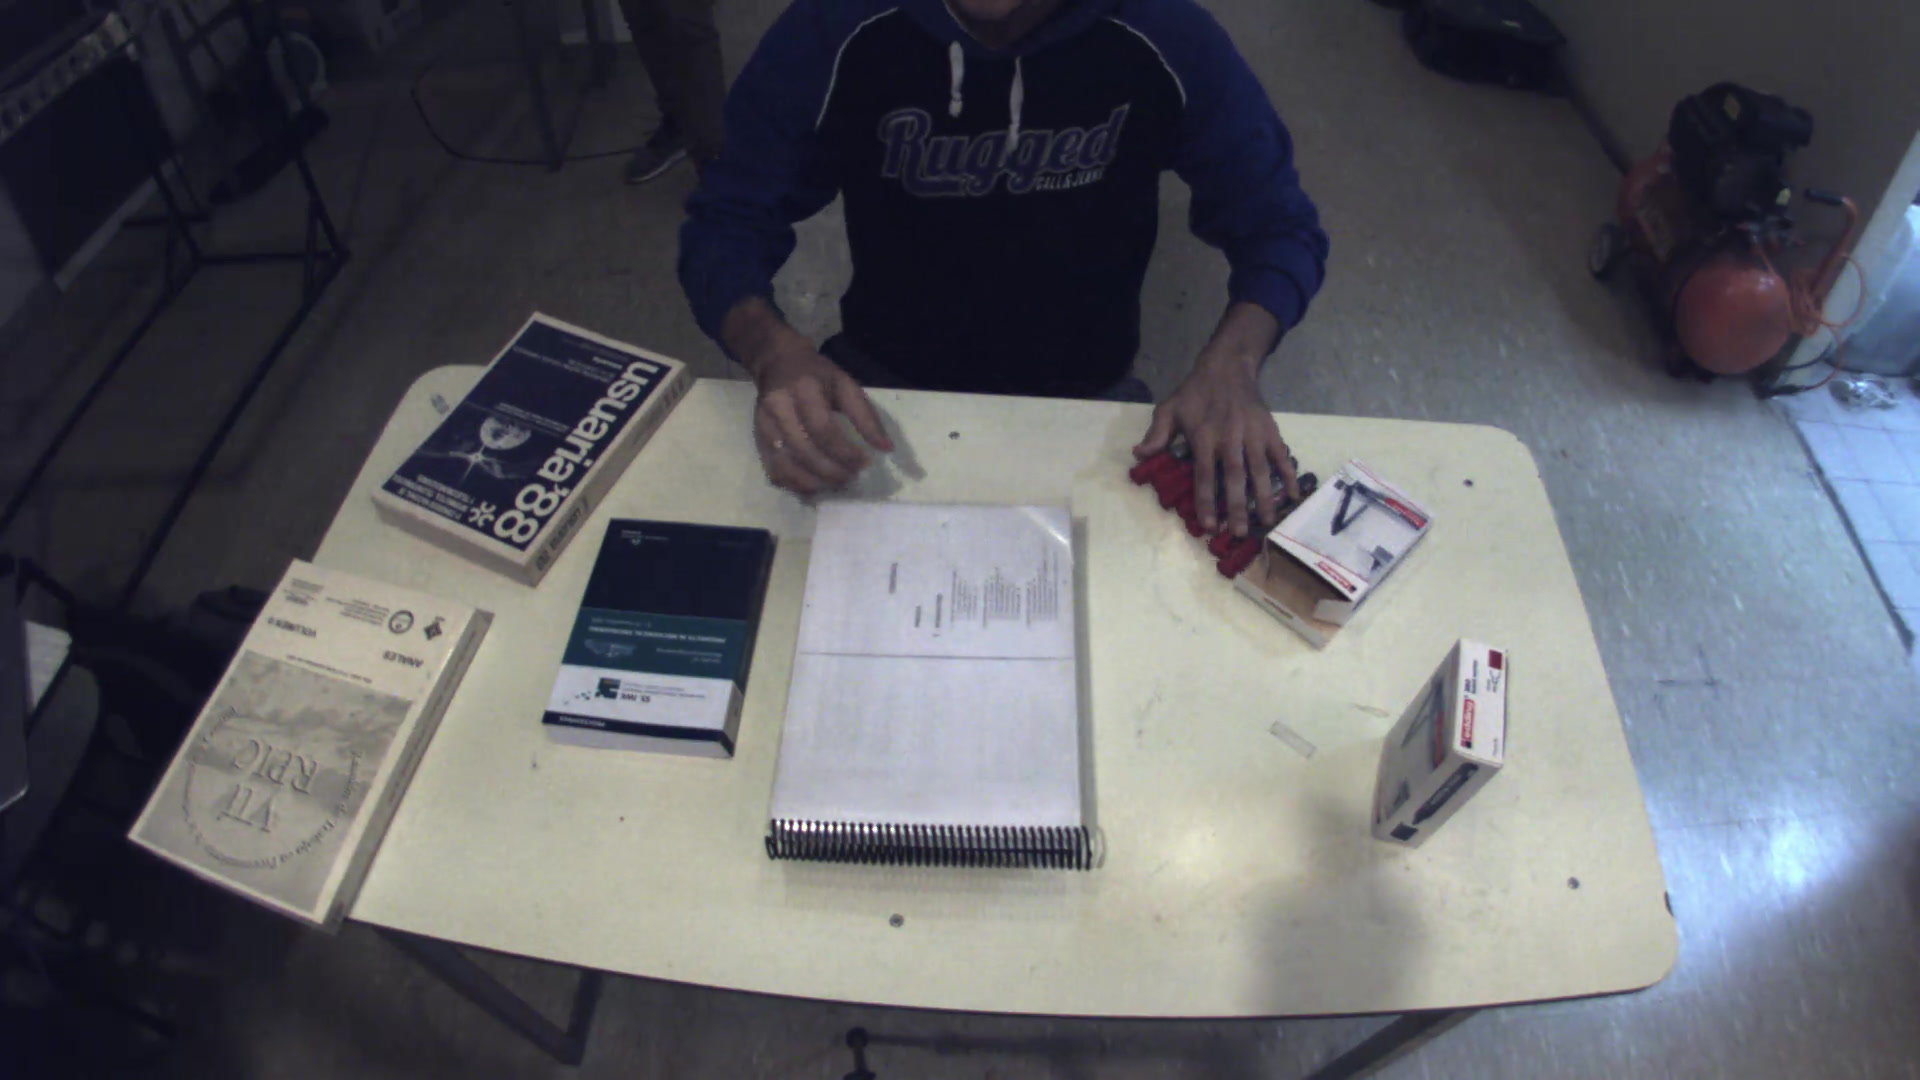hand: (1135, 340, 1323, 555), (735, 328, 926, 505)
